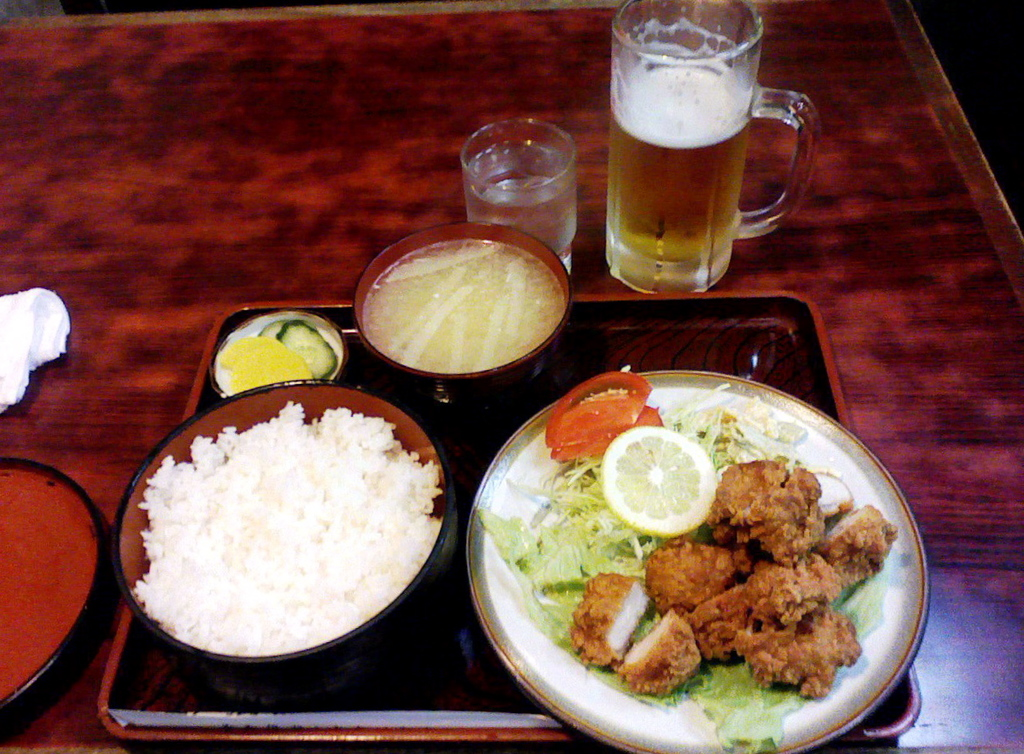Beer: (602, 55, 747, 292)
